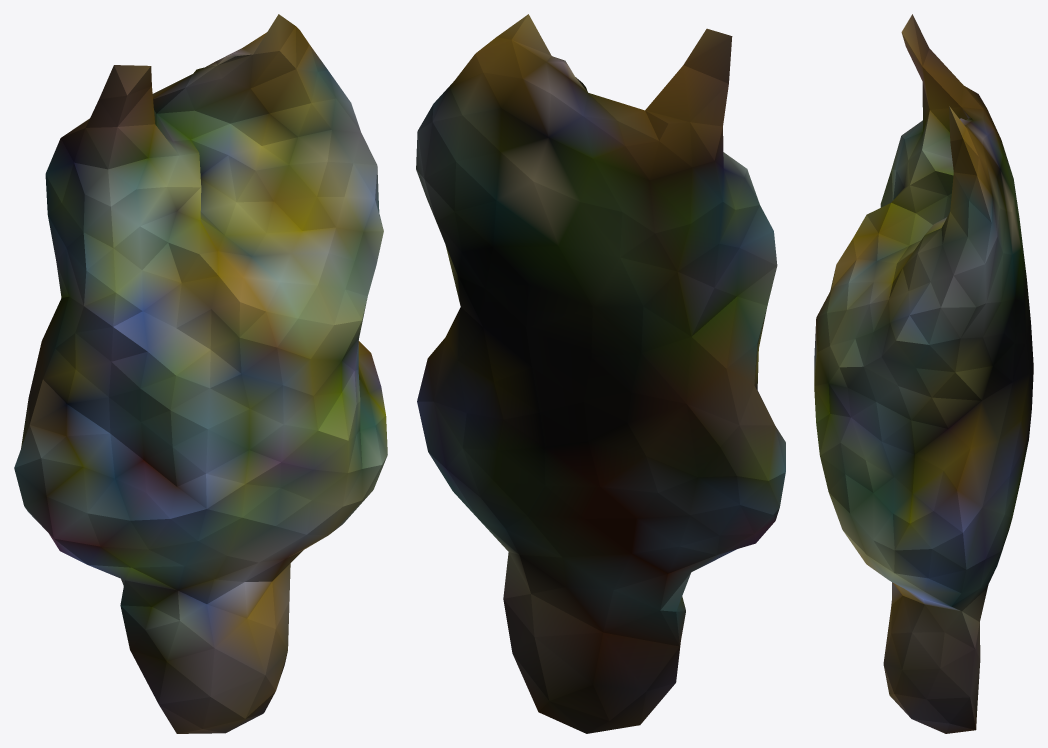
Rendered from baby-doll2.dae.
3 views of the same model, side by side, from view 1: azimuth 30°, elevation 25°; view 2: azimuth 150°, elevation 25°; view 3: azimuth 270°, elevation 25° (orthographic). The views are drawn at different scales.
Parts seen in each view (by area): view 1: node; view 2: node; view 3: node.
Part boxes in pixels (x1=…): node: x1=14, y1=14, x2=387, y2=733; node: x1=416, y1=14, x2=785, y2=733; node: x1=814, y1=14, x2=1033, y2=733.
Size of the model in its own units: 0.323 by 0.5986 by 0.1806.
